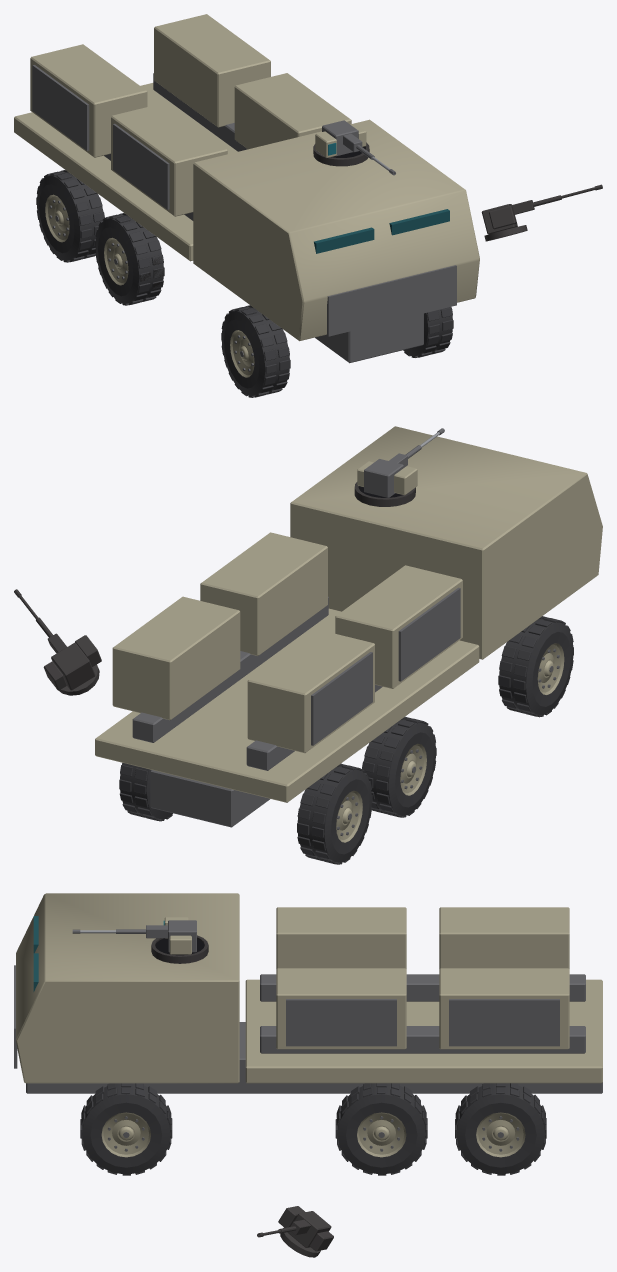
The model's file is mineLayer__engineer_minelayer.glb.
3 renders of one model, top to bottom at view 1: azimuth 30°, elevation 25°; view 2: azimuth 150°, elevation 25°; view 3: azimuth 270°, elevation 25°, orthographic. The views are drawn at different scales.
Parts seen in each view (by area): view 1: Hull_Mesh, Wheel_L2_Mesh, Wheel_L1_Mesh, Wheel_L0_Mesh, Wreck, Wheel_R2_Mesh, Turret_Mesh; view 2: Hull_Mesh, Wheel_L0_Mesh, Wheel_L2_Mesh, Wheel_L1_Mesh, Wreck, Turret_Mesh, Wheel_R0_Mesh; view 3: Hull_Mesh, Wheel_R2_Mesh, Wheel_R1_Mesh, Wheel_R0_Mesh, Wreck, Turret_Mesh, Gun_Mesh.
Part boxes in pixels (x1,y1,x2,y2): Hull_Mesh: [14, 14, 479, 363]; Wheel_L2_Mesh: [221, 305, 290, 397]; Wheel_L1_Mesh: [95, 213, 164, 305]; Wheel_L0_Mesh: [36, 170, 104, 262]; Wreck: [61, 142, 602, 396]; Wheel_R2_Mesh: [403, 307, 453, 357]; Turret_Mesh: [315, 120, 366, 157]; Hull_Mesh: [95, 426, 602, 827]; Wheel_L0_Mesh: [297, 763, 372, 864]; Wheel_L2_Mesh: [498, 616, 573, 717]; Wheel_L1_Mesh: [362, 716, 436, 817]; Wreck: [14, 482, 540, 860]; Turret_Mesh: [357, 459, 417, 497]; Wheel_R0_Mesh: [119, 763, 172, 821]; Hull_Mesh: [14, 893, 602, 1093]; Wheel_R2_Mesh: [80, 1083, 172, 1175]; Wheel_R1_Mesh: [335, 1083, 427, 1175]; Wheel_R0_Mesh: [455, 1083, 546, 1175]; Wreck: [127, 935, 505, 1257]; Turret_Mesh: [163, 917, 196, 954]; Gun_Mesh: [72, 925, 167, 938].
Size of what is drawn, in the model's own units: 5.87 by 2.84 by 6.92.
